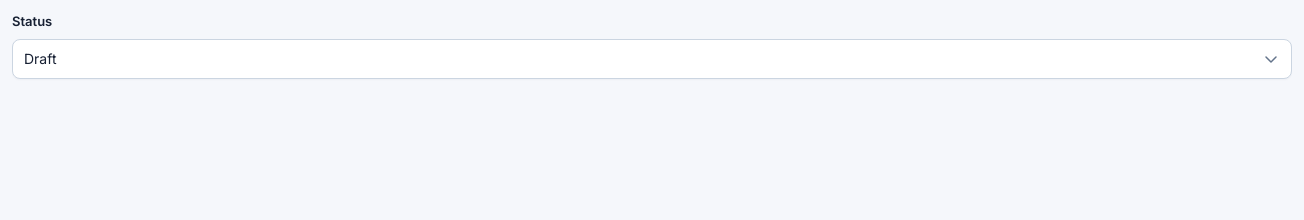
Test case: Select › opens a styled listbox and reports the chosen option
Click the dropdown named "Status" at (40, 58), box [12,39,1292,79]
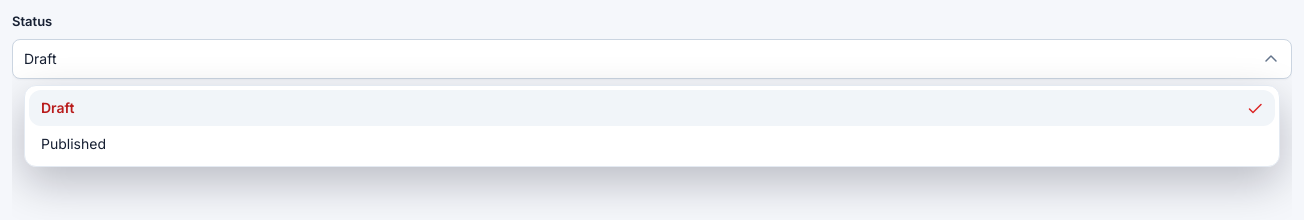
Result: the list is shown at [24,85,1280,167]
Click the option "Published" at (73, 143), box [29,126,1275,162]
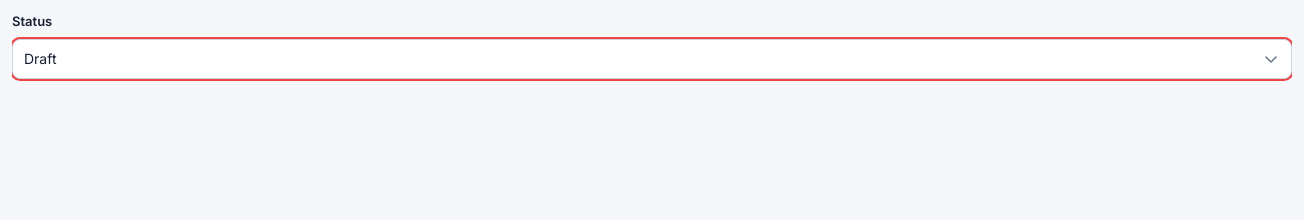
Result: the list is gone
